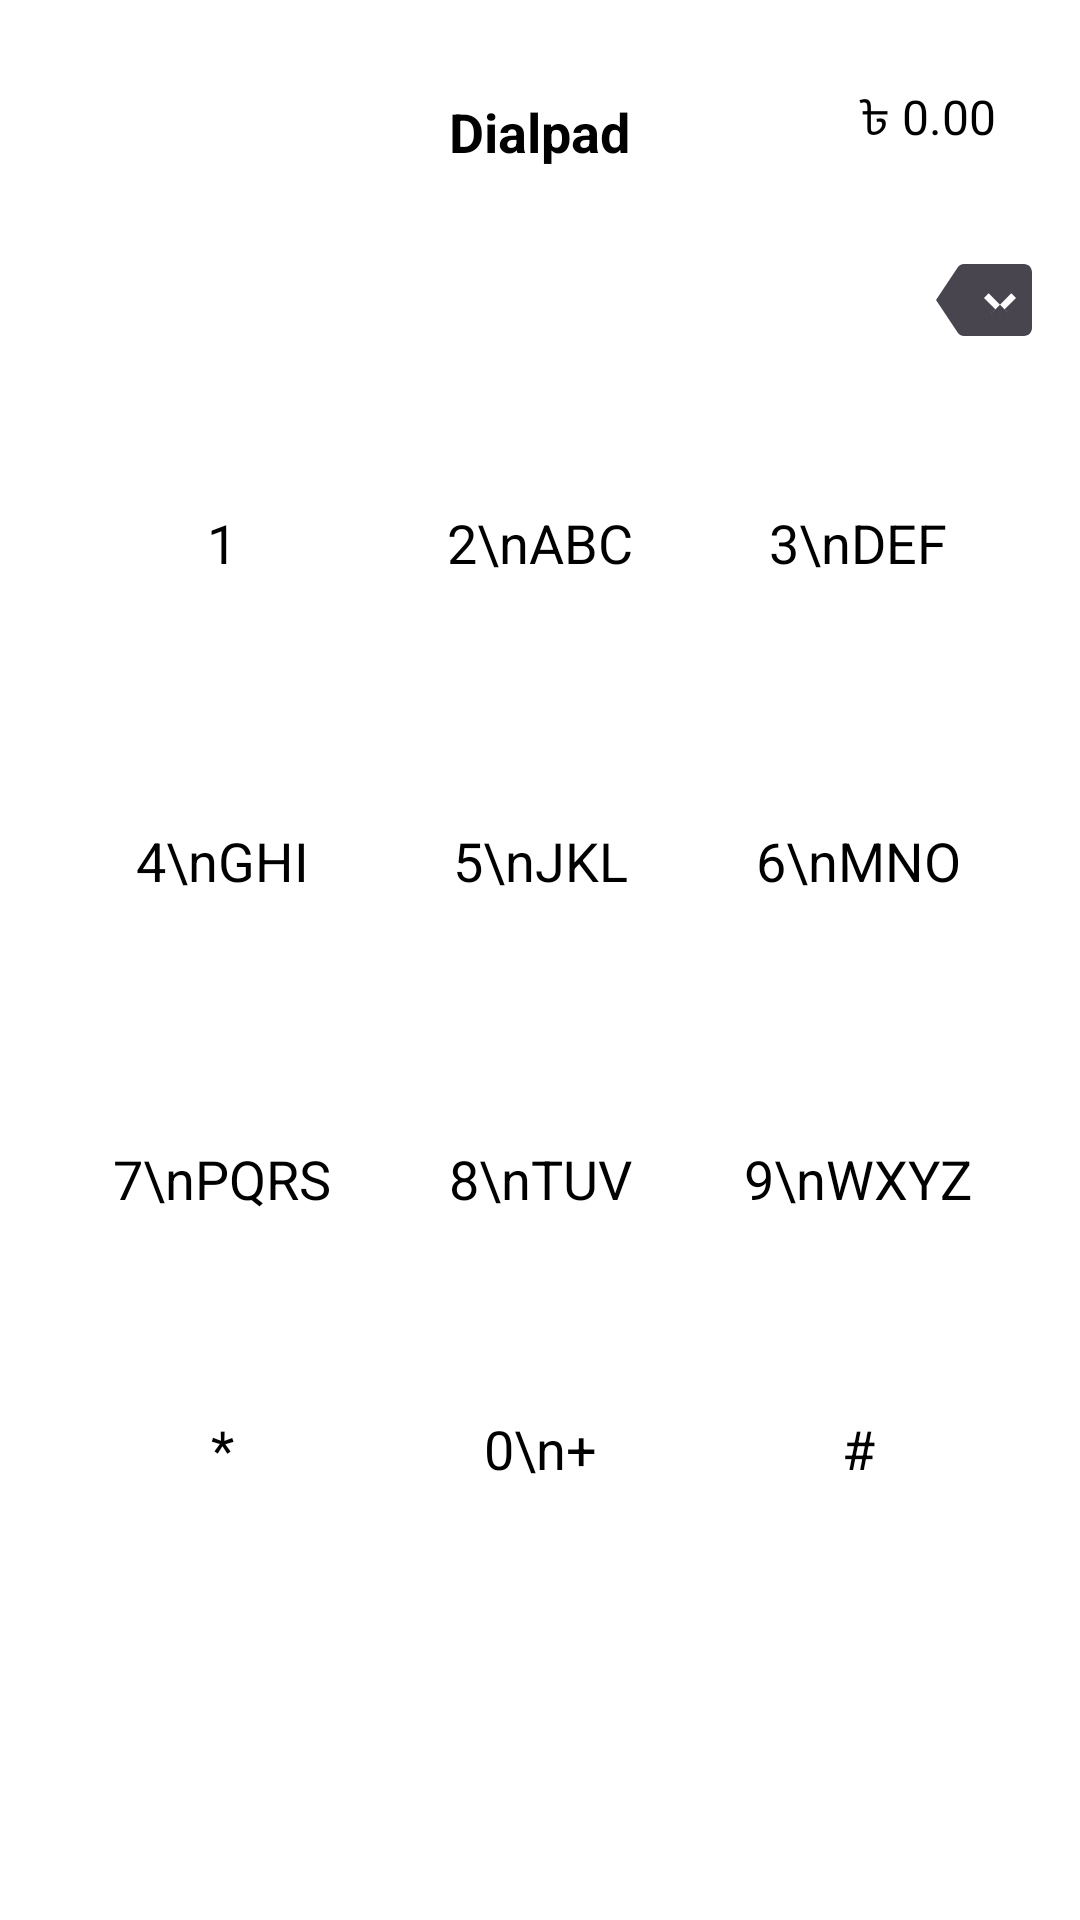

Point at icon controls on the screen. Image size 1080×1920, points as [x,y].
backspace: [984,300]
